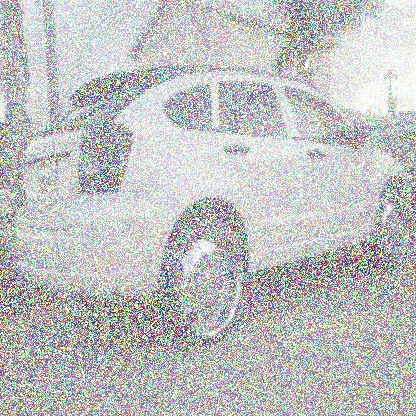Vehicle: (15, 63, 415, 355)
